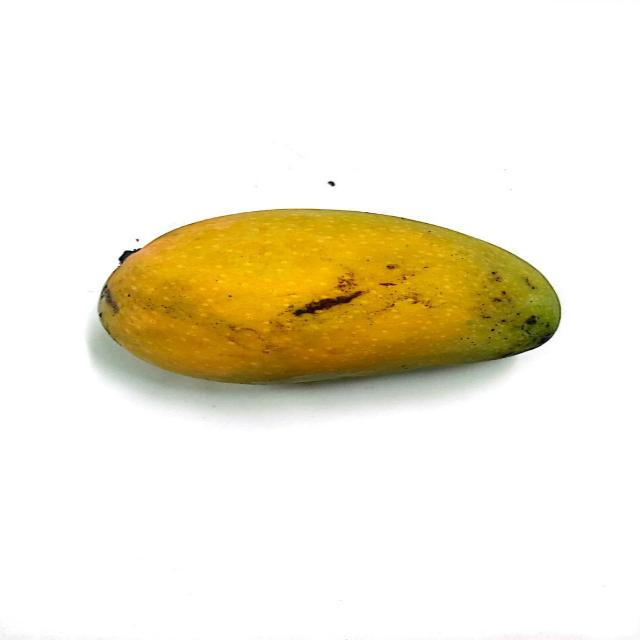fresh_mango: (96, 208, 562, 384)
